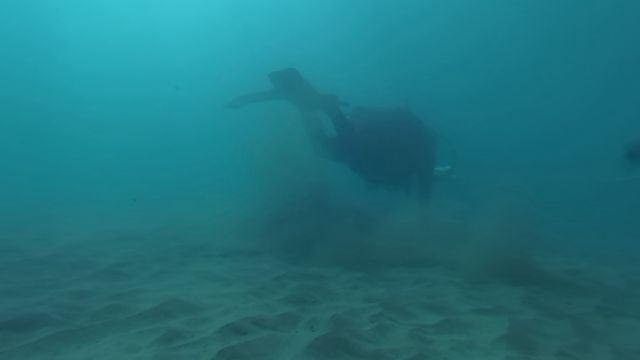Diver: (214, 54, 476, 228)
